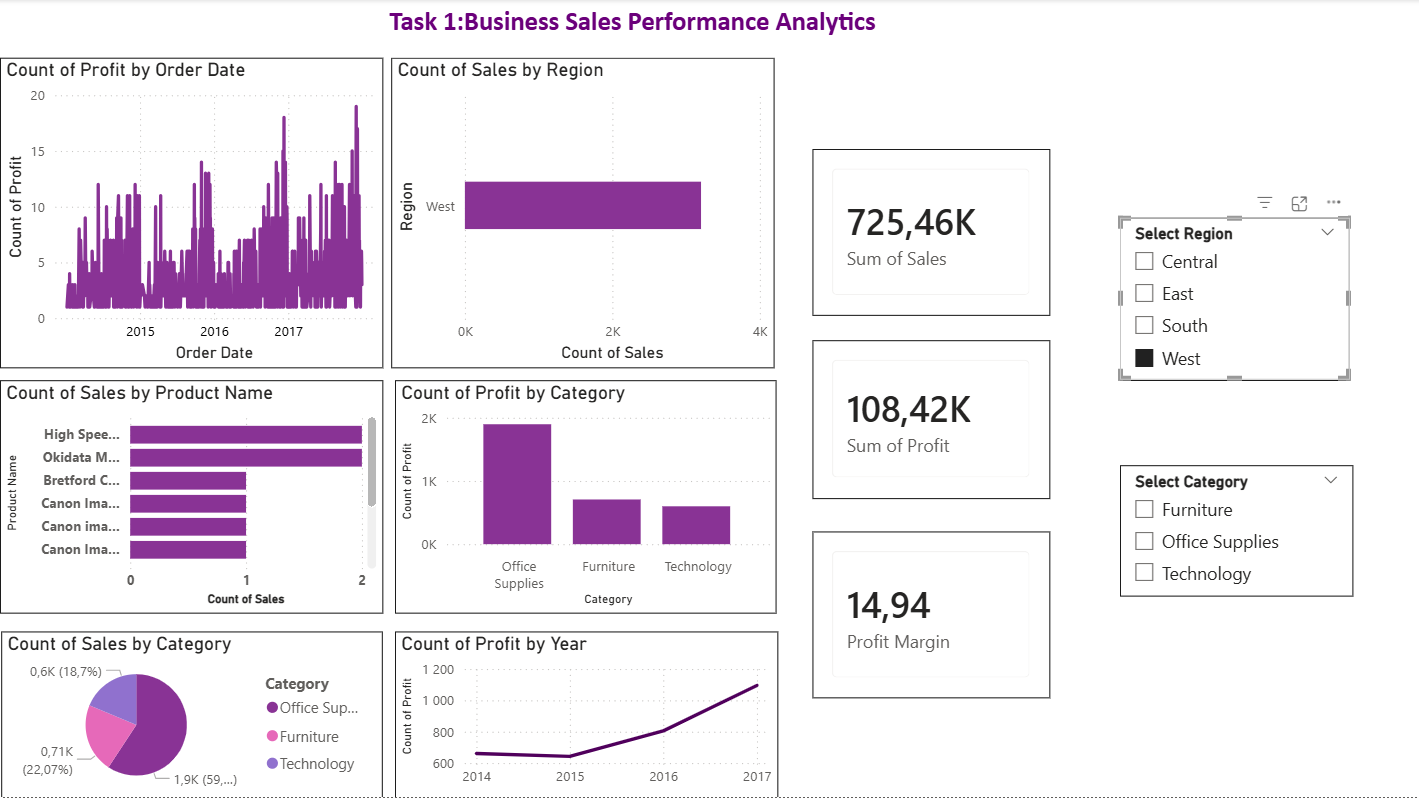

The dashboard page shown, as its layout file describes it:
{"tool":"powerbi","page":{"name":"Page 1","canvas":[1280,720],"ordinal":0},"visuals":[{"type":"lineChart","fields":{"Y":["CountNonNull(Sample - Superstore_CLEANED.Profit)"],"Category":["Sample - Superstore_CLEANED.Order Date"]},"box":[0,52.9,345.7,280],"z":0},{"type":"barChart","fields":{"Category":["Sample - Superstore_CLEANED.Product Name"],"Y":["CountNonNull(Sample - Superstore_CLEANED.Sales)"]},"box":[0,344.3,345.7,210],"z":1000},{"type":"pieChart","fields":{"Category":["Sample - Superstore_CLEANED.Category"],"Y":["CountNonNull(Sample - Superstore_CLEANED.Sales)"]},"box":[1.4,570,344.3,150],"z":2000},{"type":"barChart","fields":{"Category":["Sample - Superstore_CLEANED.Region"],"Y":["CountNonNull(Sample - Superstore_CLEANED.Sales)"]},"box":[352.9,52.9,345.7,280],"z":3000},{"type":"columnChart","fields":{"Category":["Sample - Superstore_CLEANED.Category"],"Y":["CountNonNull(Sample - Superstore_CLEANED.Profit)"]},"box":[355.7,344.3,344.3,210],"z":4000},{"type":"lineChart","fields":{"Category":["Sample - Superstore_CLEANED.Order Date.Variation.Date Hierarchy.Year","Sample - Superstore_CLEANED.Order Date.Variation.Date Hierarchy.Quarter","Sample - Superstore_CLEANED.Order Date.Variation.Date Hierarchy.Month","Sample - Superstore_CLEANED.Order Date.Variation.Date Hierarchy.Day"],"Y":["CountNonNull(Sample - Superstore_CLEANED.Profit)"]},"box":[355.7,570,345.7,150],"z":5000},{"type":"slicer","fields":{"Values":["Sample - Superstore_CLEANED.Region"]},"box":[1010,197.1,207.1,147.1],"z":6000},{"type":"slicer","fields":{"Values":["Sample - Superstore_CLEANED.Category"]},"box":[1010,420,210,118.6],"z":7000},{"type":"cardVisual","fields":{"Data":["Sum(Sample - Superstore_CLEANED.Sales)"]},"box":[732.9,135.7,214.3,150],"z":8000},{"type":"cardVisual","fields":{"Data":["Sum(Sample - Superstore_CLEANED.Profit)"]},"box":[732.9,307.1,214.3,142.9],"z":9000},{"type":"textbox","box":[345.7,0,464.3,52.9],"z":10000},{"type":"cardVisual","fields":{"Data":["Sample - Superstore_CLEANED.Profit Margin"]},"box":[732.9,480,214.3,150],"z":10001}]}

Visuals, with their boxes in screenshot pixels (x1, y1, x2, y2), scaled from the page's 1280x720 canvas onto the 1419x798 screenshot:
lineChart - CountNonNull(Sample - Superstore_CLEANED.Profit) x Sample - Superstore_CLEANED.Order Date: <region>0, 59, 383, 369</region>
barChart - Sample - Superstore_CLEANED.Product Name x CountNonNull(Sample - Superstore_CLEANED.Sales): <region>0, 382, 383, 614</region>
pieChart - Sample - Superstore_CLEANED.Category x CountNonNull(Sample - Superstore_CLEANED.Sales): <region>2, 632, 383, 797</region>
barChart - Sample - Superstore_CLEANED.Region x CountNonNull(Sample - Superstore_CLEANED.Sales): <region>391, 59, 774, 369</region>
columnChart - Sample - Superstore_CLEANED.Category x CountNonNull(Sample - Superstore_CLEANED.Profit): <region>394, 382, 776, 614</region>
lineChart - Sample - Superstore_CLEANED.Order Date.Variation.Date Hierarchy.Year x Sample - Superstore_CLEANED.Order Date.Variation.Date Hierarchy.Quarter: <region>394, 632, 778, 797</region>
slicer - Sample - Superstore_CLEANED.Region: <region>1120, 218, 1349, 381</region>
slicer - Sample - Superstore_CLEANED.Category: <region>1120, 466, 1352, 597</region>
cardVisual - Sum(Sample - Superstore_CLEANED.Sales): <region>812, 150, 1050, 317</region>
cardVisual - Sum(Sample - Superstore_CLEANED.Profit): <region>812, 340, 1050, 499</region>
textbox: <region>383, 0, 898, 59</region>
cardVisual - Sample - Superstore_CLEANED.Profit Margin: <region>812, 532, 1050, 698</region>
